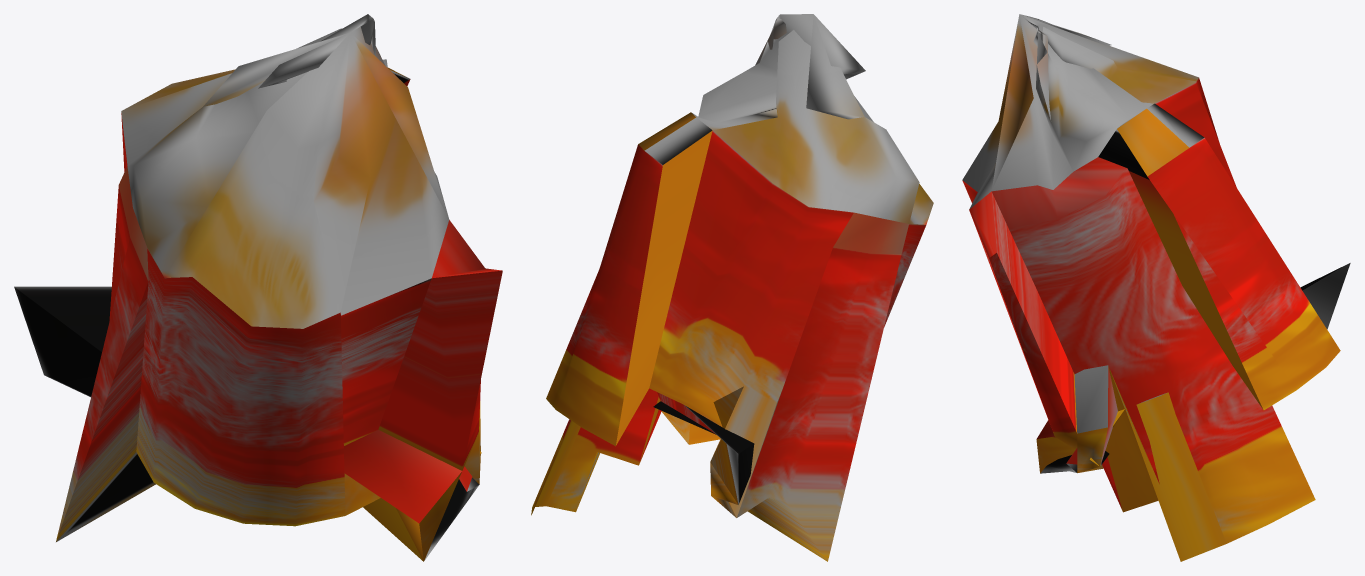
File: Junker 1.fbx
3 views of the same model, side by side, from view 1: azimuth 30°, elevation 25°; view 2: azimuth 150°, elevation 25°; view 3: azimuth 270°, elevation 25° (orthographic). The views are drawn at different scales.
Visible parts, largest first — view 1: pCylinder1; view 2: pCylinder1; view 3: pCylinder1.
Part boxes in pixels (box(x1,y1,x2,y2)): pCylinder1: box(14, 14, 502, 561); pCylinder1: box(531, 14, 933, 561); pCylinder1: box(962, 14, 1350, 561).
Bounding box in the file's own units: 2.67 × 4.12 × 3.07.
1 material, 1 textured.
